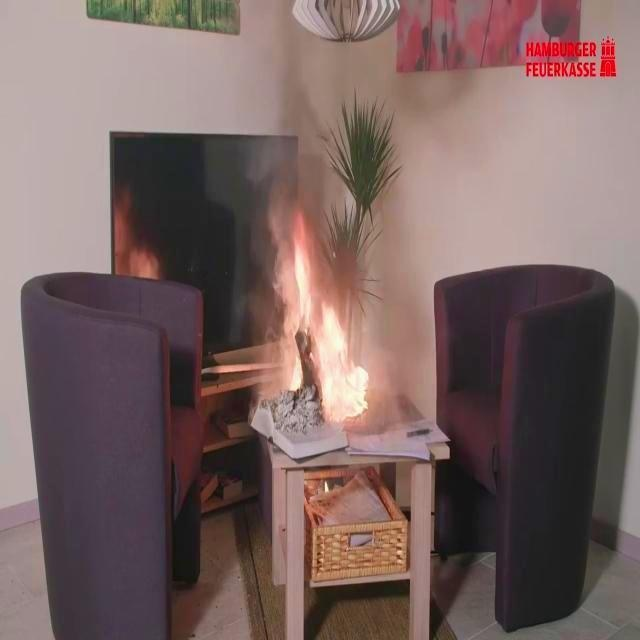fire: (262, 192, 372, 435)
